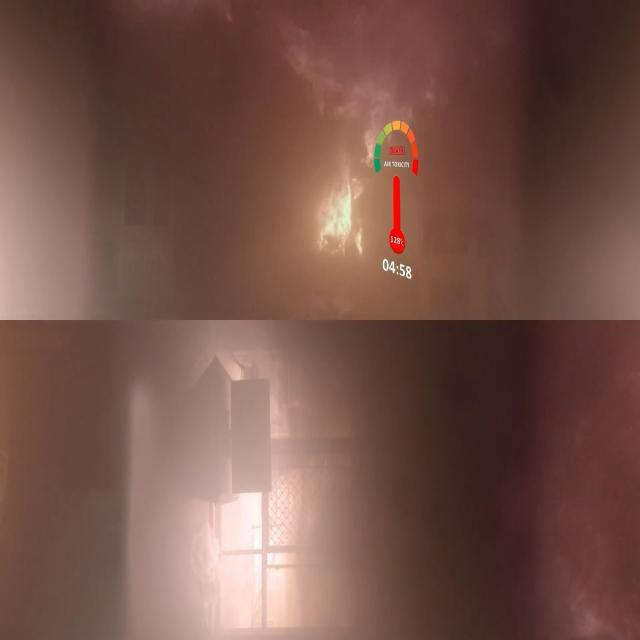Fire: (318, 170, 366, 260)
